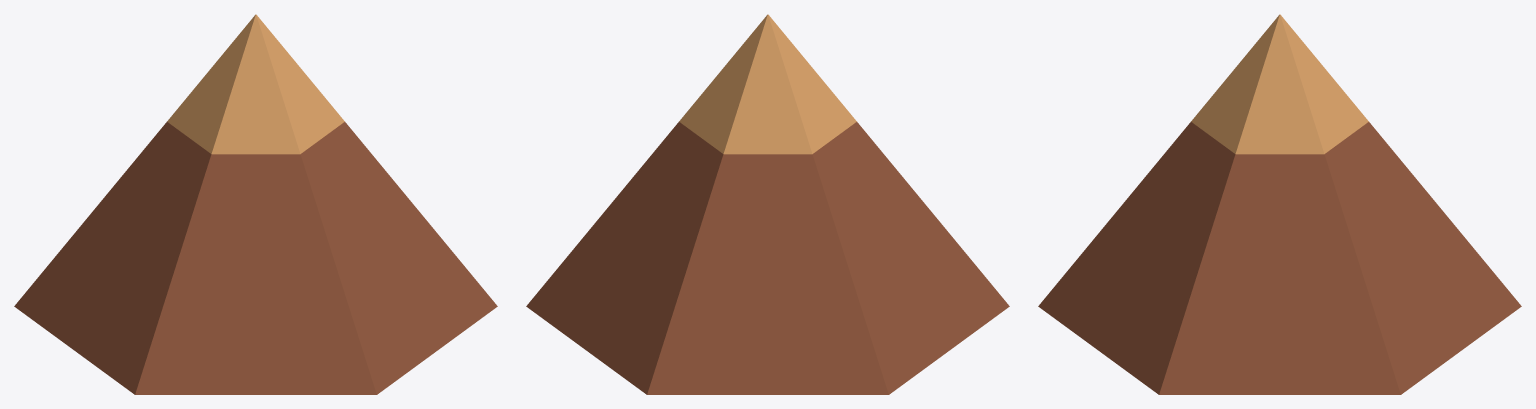
File: DesertMountain.fbx
3 views of the same model, side by side, from view 1: azimuth 30°, elevation 25°; view 2: azimuth 150°, elevation 25°; view 3: azimuth 270°, elevation 25° (orthographic).
Visible parts, largest first — view 1: DesertMountain; view 2: DesertMountain; view 3: DesertMountain.
Part boxes in pixels (x1,y1,x2,y2): DesertMountain: (14,14,497,394); DesertMountain: (526,14,1009,394); DesertMountain: (1038,14,1521,394).
Bounding box in the file's own units: 0.9233 × 0.7112 × 1.07.
